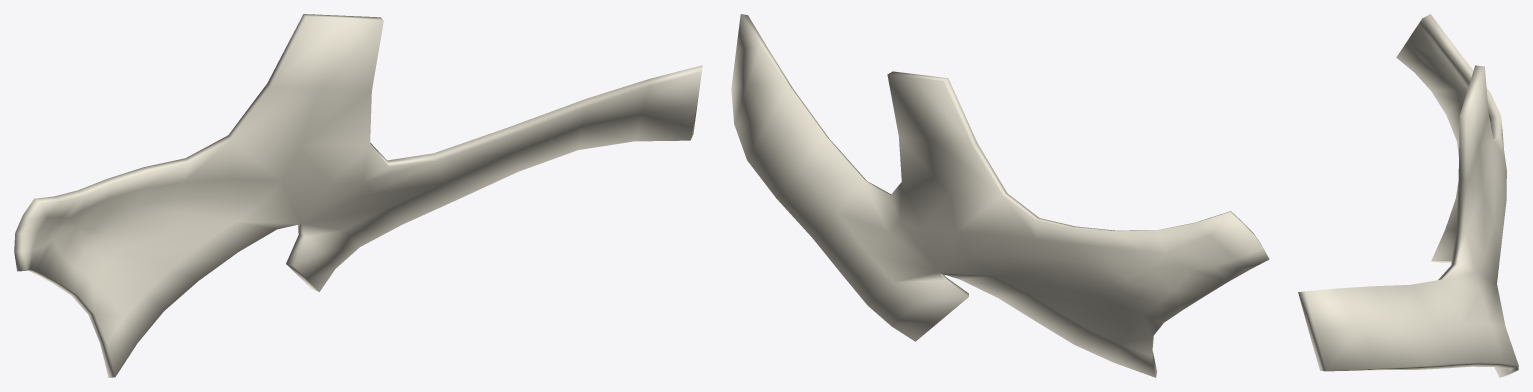
3 views of the same model, side by side, from view 1: azimuth 30°, elevation 25°; view 2: azimuth 150°, elevation 25°; view 3: azimuth 270°, elevation 25° (orthographic). The views are drawn at different scales.
Visible parts, largest first — view 1: ZA_be200f5128cabfc1; view 2: ZA_be200f5128cabfc1; view 3: ZA_be200f5128cabfc1.
Part boxes in pixels (left/top/right/bottom): ZA_be200f5128cabfc1: left=14, top=14, right=702, bottom=377; ZA_be200f5128cabfc1: left=731, top=14, right=1269, bottom=377; ZA_be200f5128cabfc1: left=1298, top=14, right=1518, bottom=377.
Size of the model in its own units: 0.0389 by 0.0172 by 0.0112.
